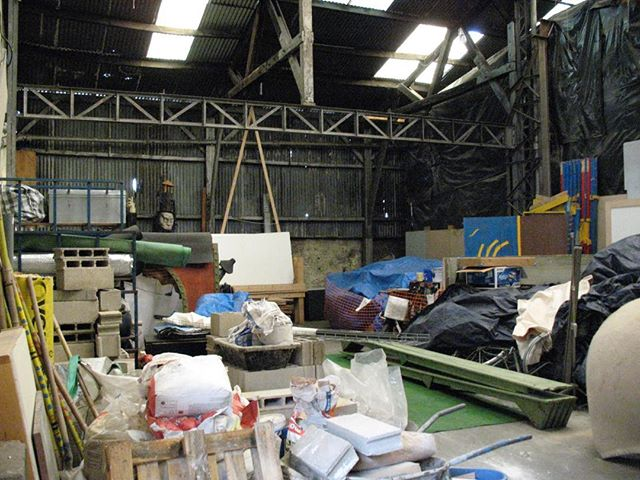trash: (10, 198, 640, 480)
